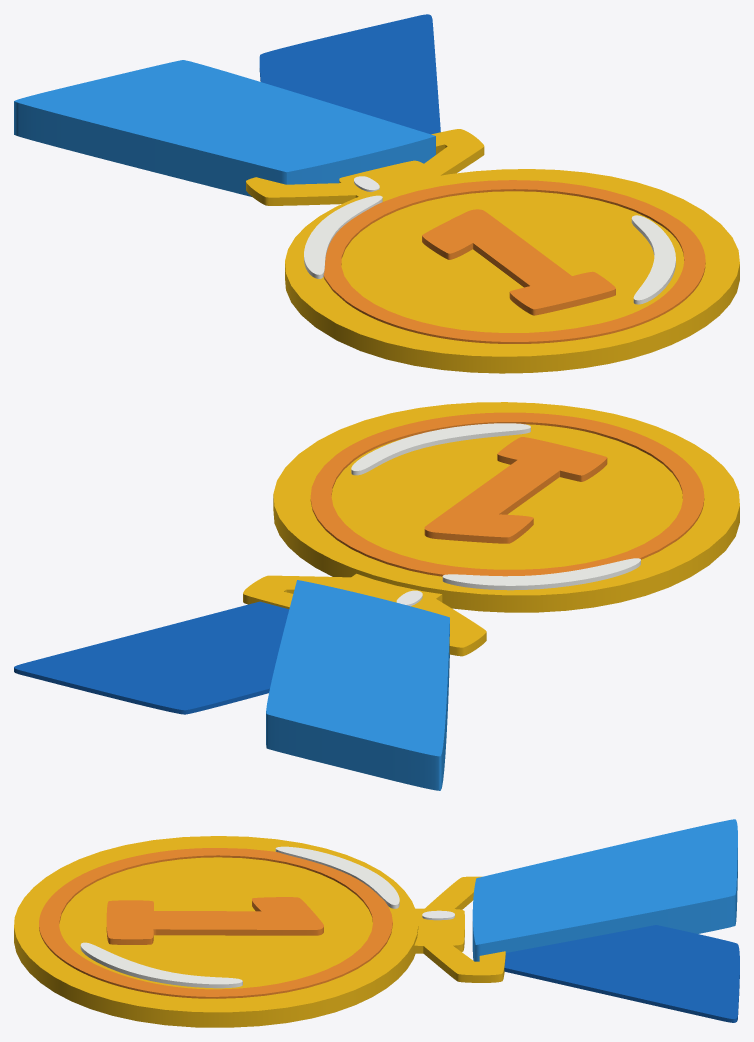
Rendered from emoji_u1f947.glb.
3 views of the same model, one above another, from view 1: azimuth 30°, elevation 25°; view 2: azimuth 150°, elevation 25°; view 3: azimuth 270°, elevation 25° (orthographic). The views are drawn at different scales.
Visible parts, largest first — view 1: emoji_u1f947; view 2: emoji_u1f947; view 3: emoji_u1f947.
Boxes of the visible parts, <box> form: emoji_u1f947: <box>14,14,739,373</box>; emoji_u1f947: <box>14,402,739,790</box>; emoji_u1f947: <box>14,819,739,1027</box>.
Size of the model in its own units: 0.0207 by 0.0016 by 0.0342.
